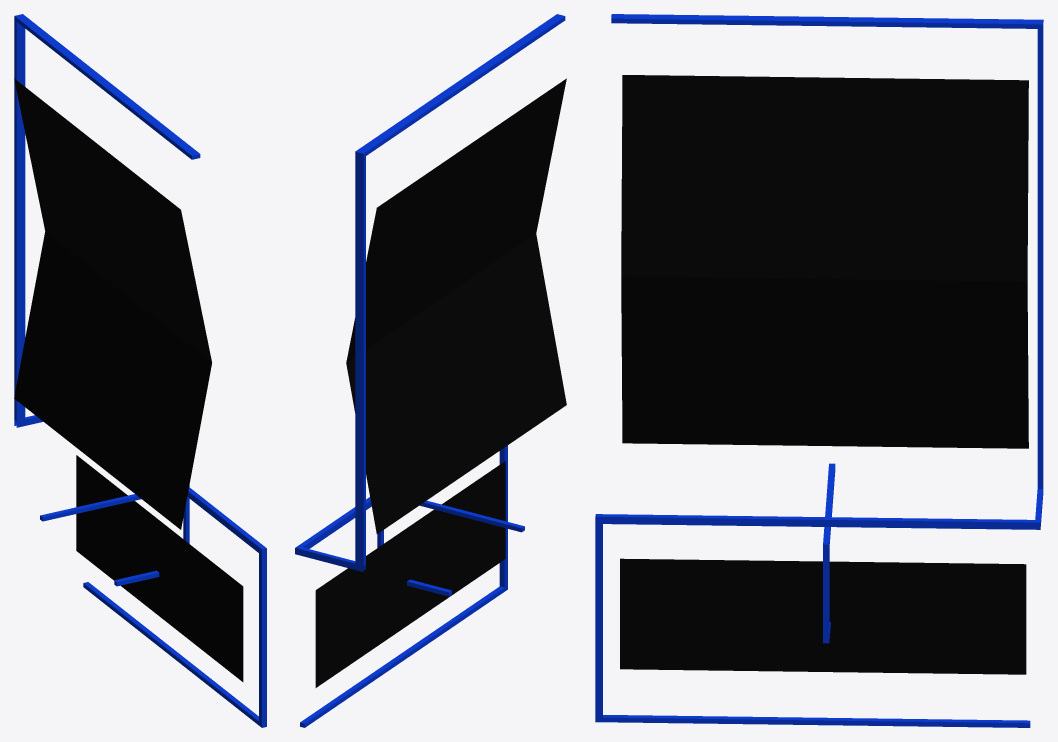
Rendered from rig_asym.glb.
The picture shows the model from 3 angles, left to right: view 1: azimuth 30°, elevation 25°; view 2: azimuth 150°, elevation 25°; view 3: azimuth 270°, elevation 25°; orthographic projection. The views are drawn at different scales.
Visible parts, largest first — view 1: face, eye, Plane; view 2: face, eye, Plane; view 3: face, eye, Plane.
Part boxes in pixels (<box>): face: <box>14,78,211,529</box>; eye: <box>76,455,243,681</box>; Plane: <box>14,14,266,727</box>; face: <box>346,78,566,533</box>; eye: <box>315,461,505,687</box>; Plane: <box>295,14,565,727</box>; face: <box>621,75,1028,448</box>; eye: <box>620,558,1026,674</box>; Plane: <box>595,14,1043,727</box>.
Bounding box in the file's own units: 0.4717 × 1.82 × 1.1.
